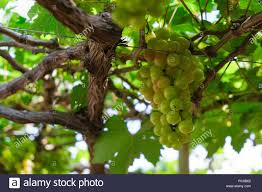grapes: (140, 25, 207, 151)
